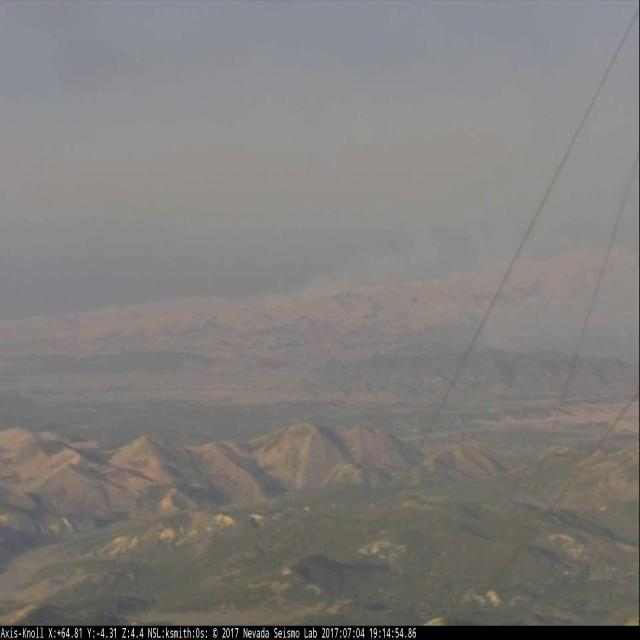smoke: (298, 199, 640, 358)
